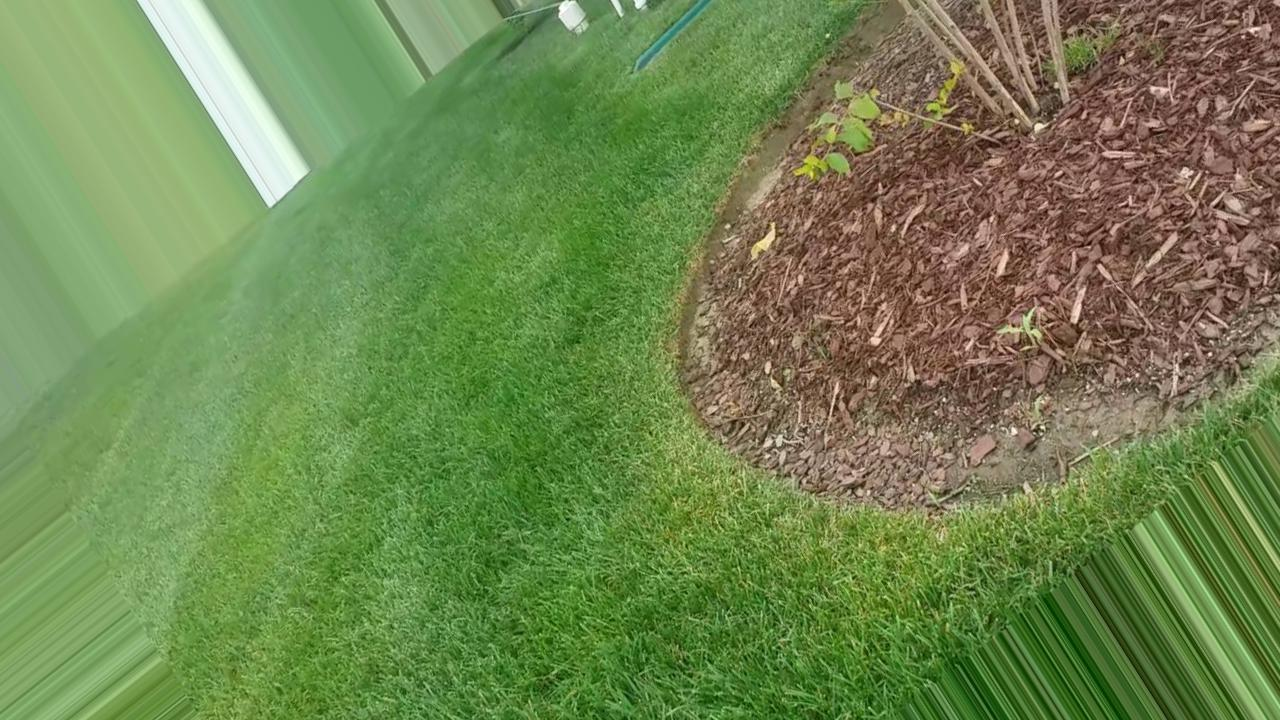patch: (729, 208, 1092, 433), (945, 155, 1257, 377), (1127, 9, 1254, 182)
